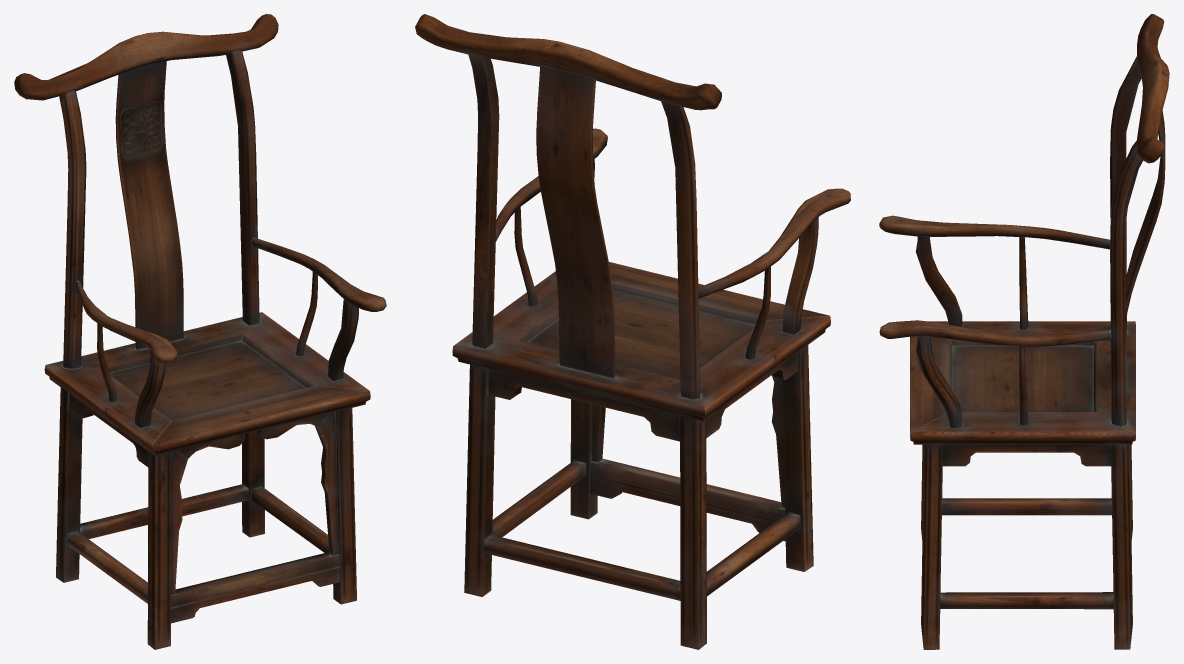
Rendered from chinese_armchair_lod1.glb.
The picture shows the model from 3 angles, left to right: view 1: azimuth 30°, elevation 25°; view 2: azimuth 150°, elevation 25°; view 3: azimuth 270°, elevation 25°; orthographic projection. The views are drawn at different scales.
Parts seen in each view (by area): view 1: chinese_armchair; view 2: chinese_armchair; view 3: chinese_armchair.
Part boxes in pixels (x1=…): chinese_armchair: x1=14, y1=14, x2=386, y2=649; chinese_armchair: x1=415, y1=14, x2=850, y2=649; chinese_armchair: x1=879, y1=14, x2=1169, y2=649.
Size of the model in its own units: 0.8483 by 1.59 by 0.7887.
Materials: 1 (1 with a texture image).
